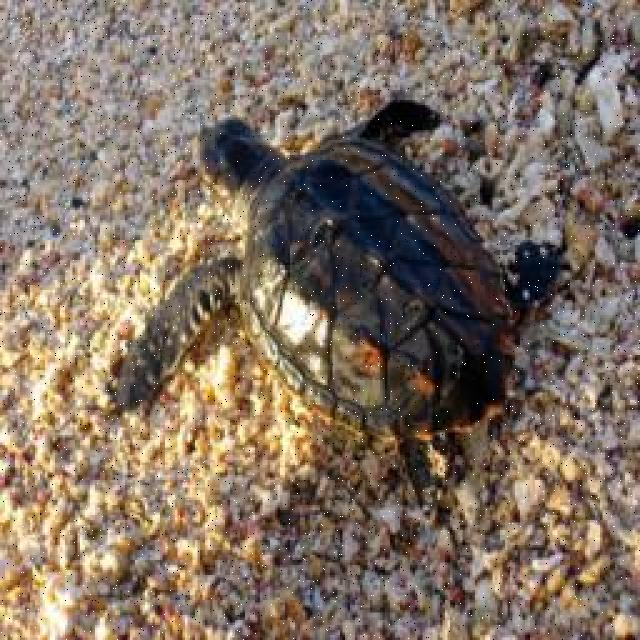fish: (121, 96, 577, 516)
